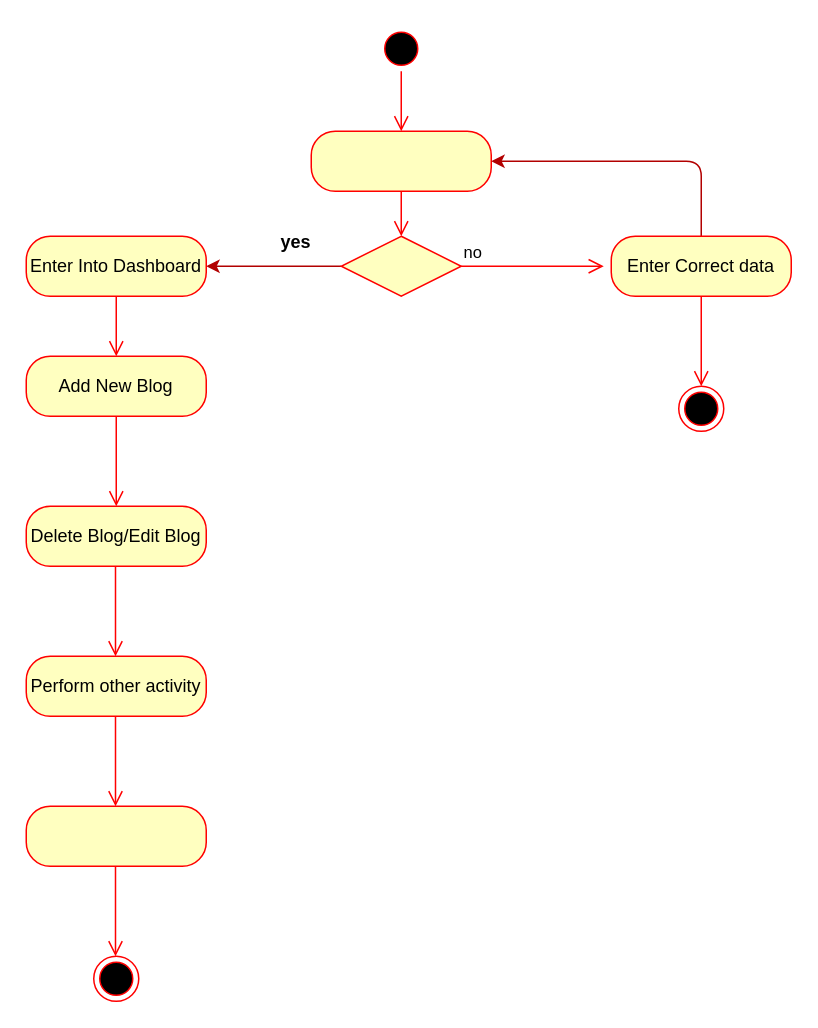
Some shapes in this 818 by 1028 pixel diagram are drawn without their labels. The centre of each missing label's shape, as x and y in pixels:
"Condition" goes at (x=400, y=265).
"Enter Username and Password" goes at (x=400, y=160).
"LogOut" goes at (x=115, y=835).
